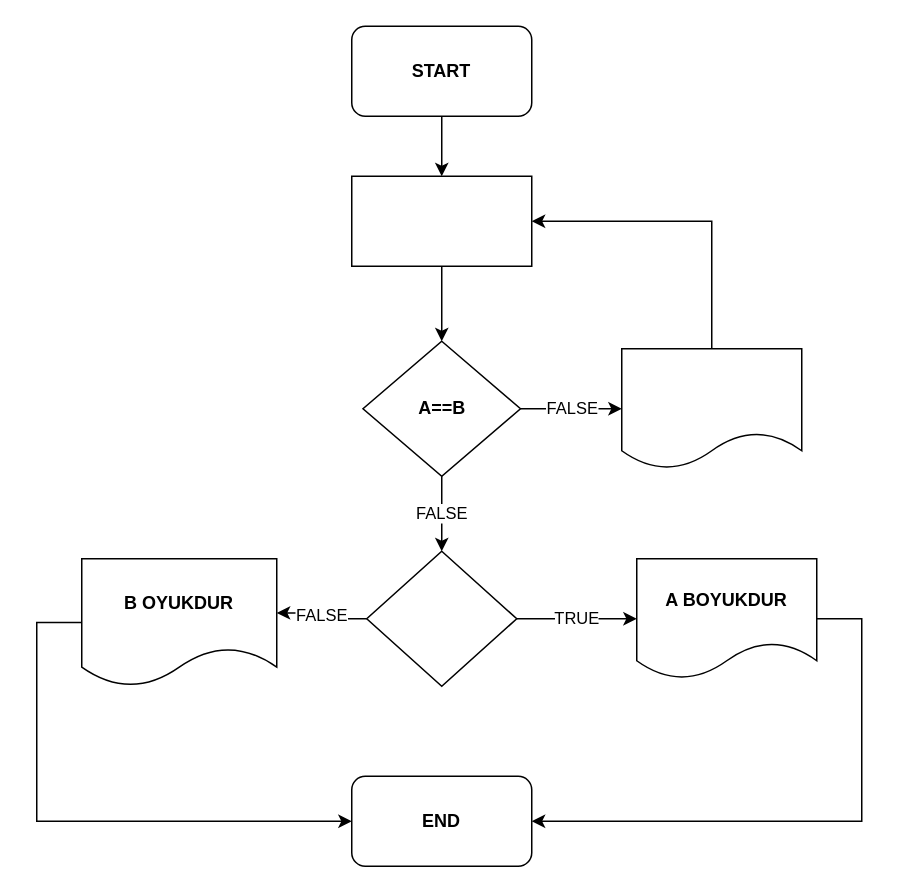
The diagram is 900 pixels wide and 893 high, and some of its shapes have lost their labels. Each missing label, with the box of its shape:
A , B: (350, 175, 532, 266)
A>B: (365, 550, 517, 686)
ERROR: (620, 347, 802, 469)
